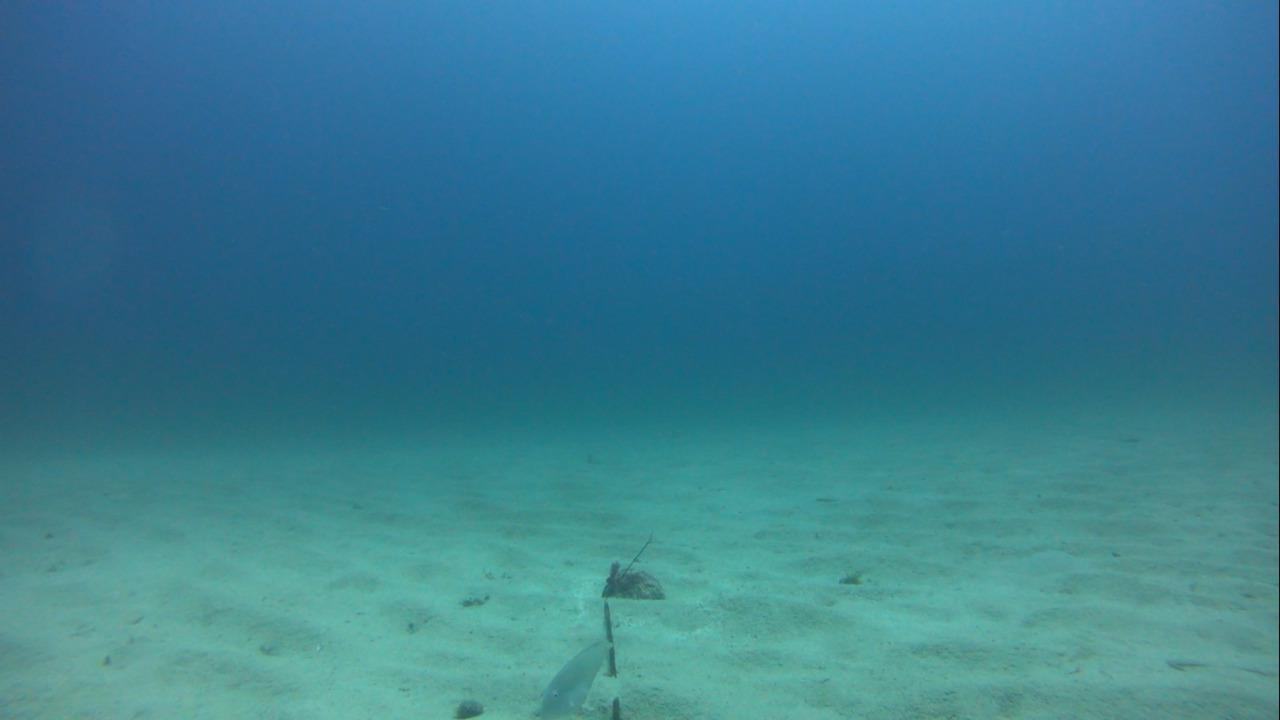raor: (529, 634, 614, 719)
